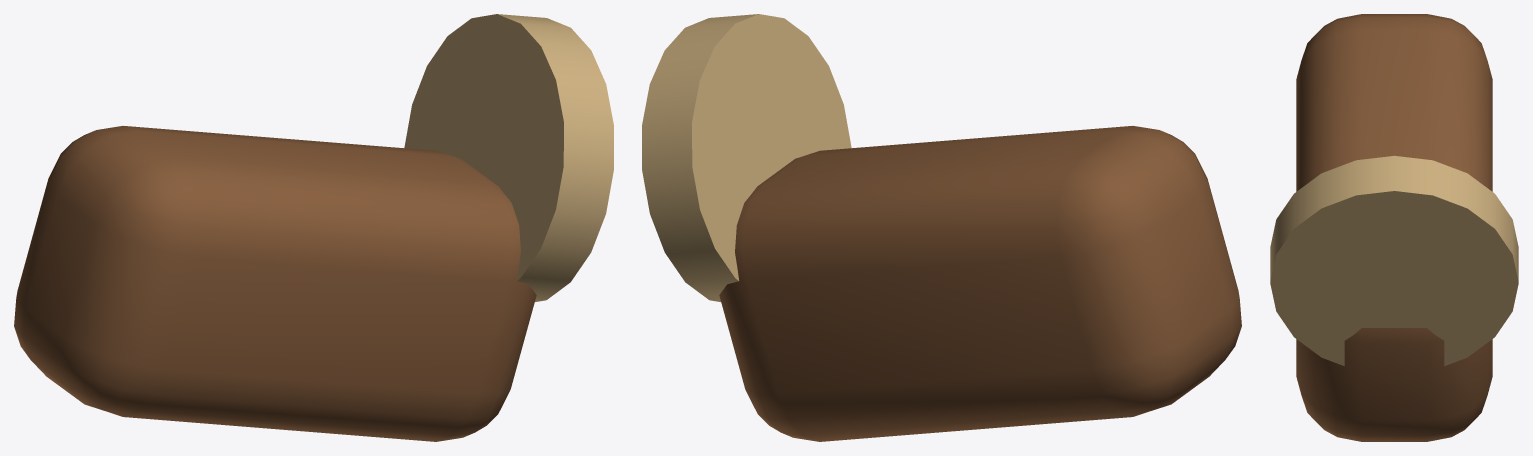
The model's file is mat_bark.glb.
The picture shows the model from 3 angles, left to right: view 1: azimuth 30°, elevation 25°; view 2: azimuth 150°, elevation 25°; view 3: azimuth 270°, elevation 25°; orthographic projection. The views are drawn at different scales.
Parts seen in each view (by area): view 1: _box; view 2: _box; view 3: _box.
Boxes of the visible parts, x1=… form: _box: x1=14, y1=14, x2=613, y2=441; _box: x1=642, y1=14, x2=1241, y2=441; _box: x1=1270, y1=14, x2=1518, y2=441.
Size of the model in its own units: 0.8064 by 0.5432 by 0.38.
